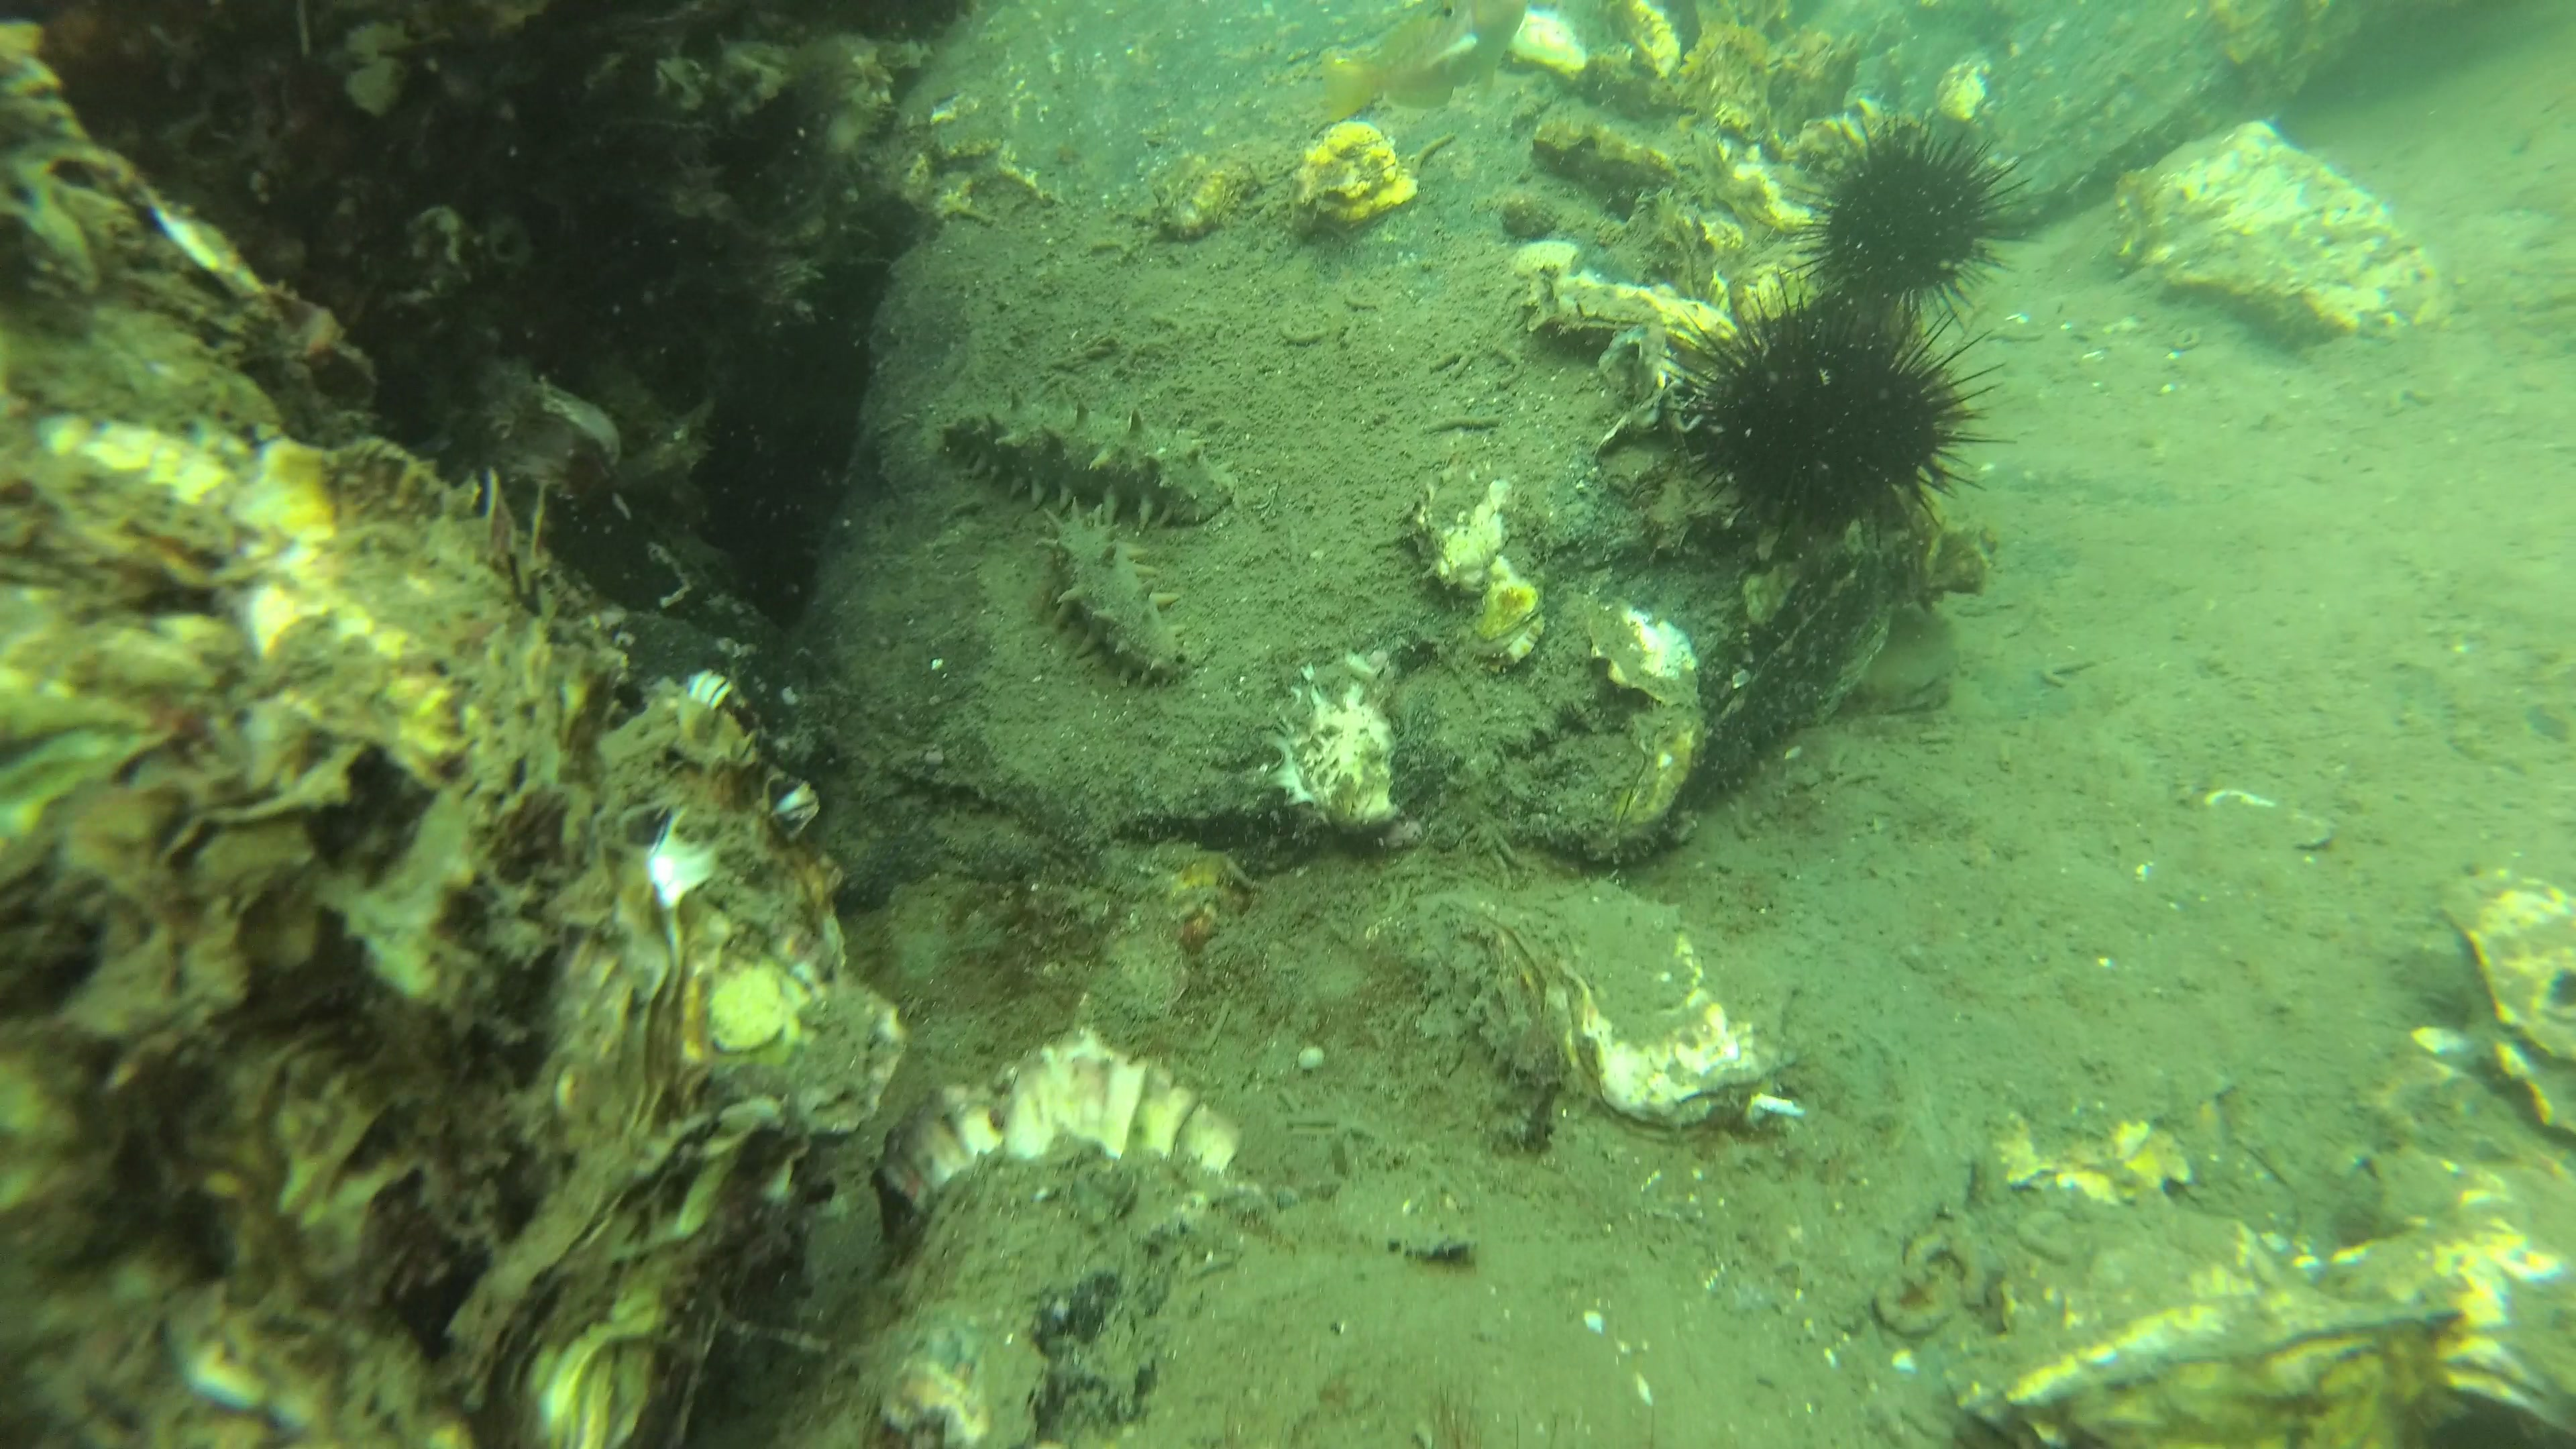echinus: (1656, 272, 2003, 556), (1787, 117, 2028, 315)
holothurian: (925, 382, 1244, 534), (1040, 492, 1194, 676)
